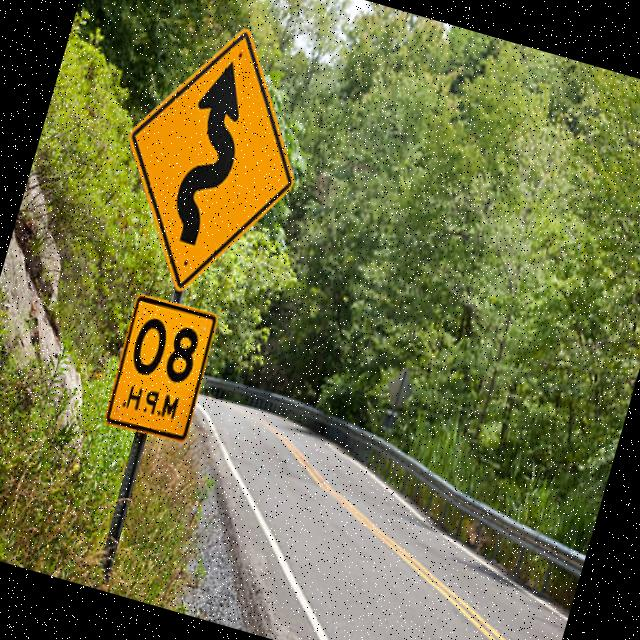left_sharp_curve: (82, 4, 330, 310)
